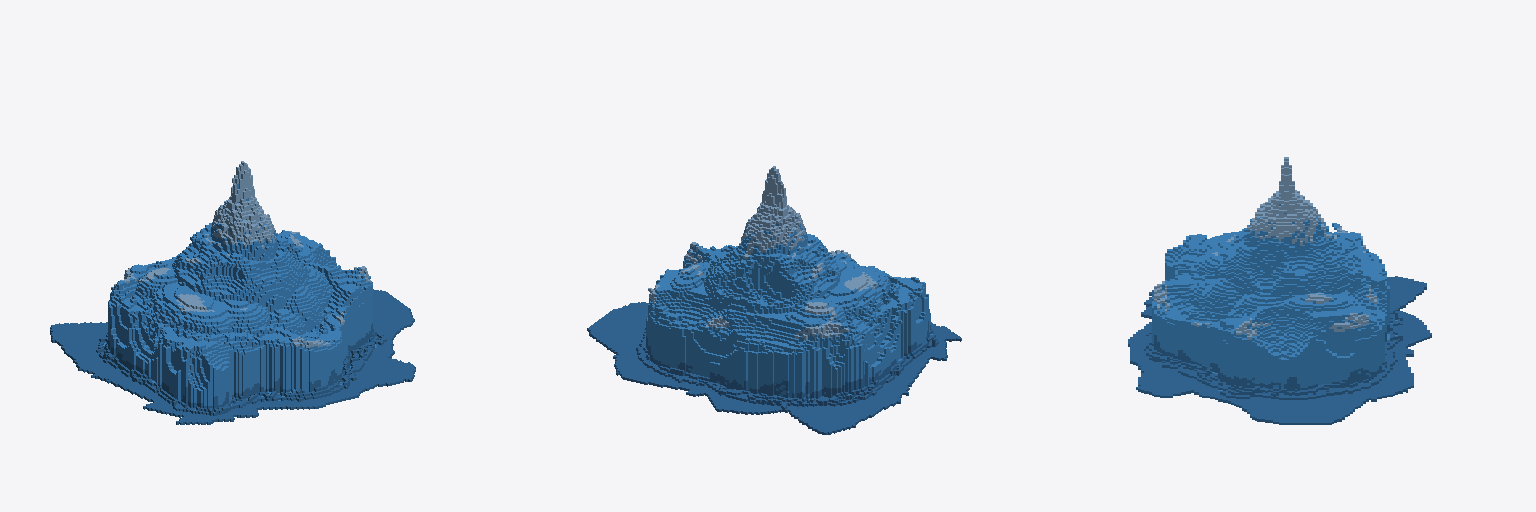
3 renders of one model, left to right at view 1: azimuth 30°, elevation 25°; view 2: azimuth 150°, elevation 25°; view 3: azimuth 270°, elevation 25°, orthographic.
Visible parts, largest first — view 1: object 1; view 2: object 1; view 3: object 1.
Part boxes in pixels (x1,y1,x2,y2): object 1: (50, 161, 415, 424); object 1: (587, 166, 961, 434); object 1: (1128, 157, 1431, 424).
Size of the model in its own units: 13.5 by 7.8 by 11.5.
Materials: 1 (1 with a texture image).